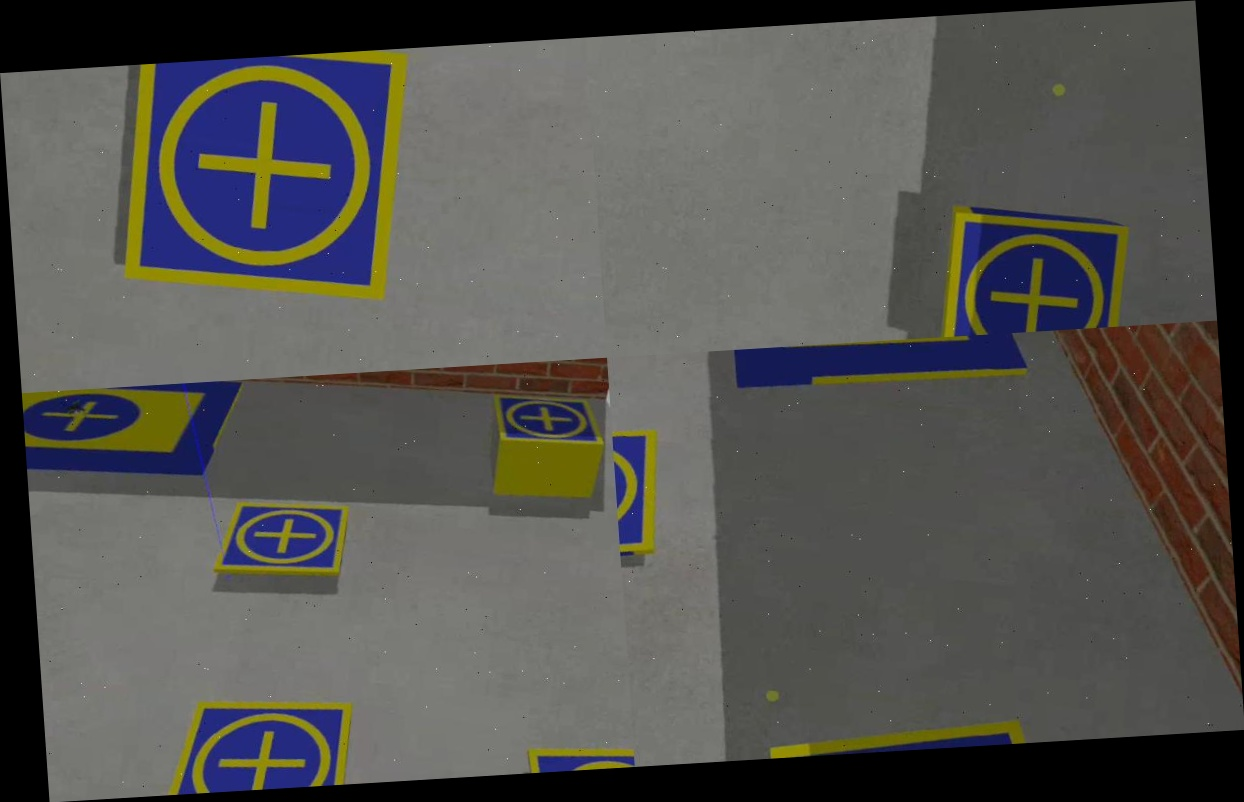large_base: (698, 331, 1056, 431), (22, 380, 252, 503)
small_base: (99, 48, 432, 321), (733, 675, 1130, 760), (925, 194, 1141, 338), (146, 672, 363, 795), (205, 486, 354, 594), (610, 403, 683, 592), (488, 384, 613, 460)
